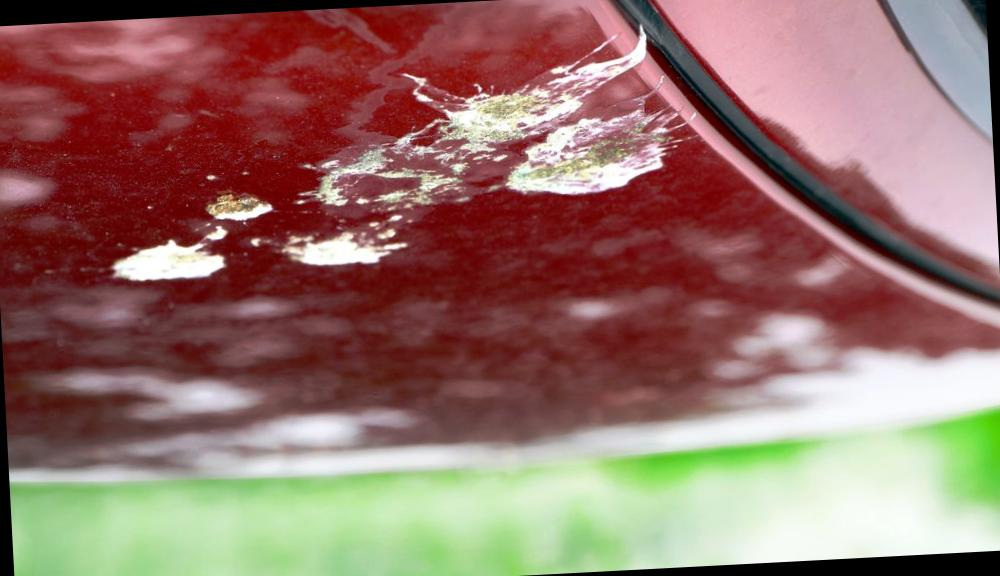Bird Poop: (313, 36, 685, 210), (111, 240, 224, 281), (284, 231, 406, 265), (206, 194, 273, 221)
